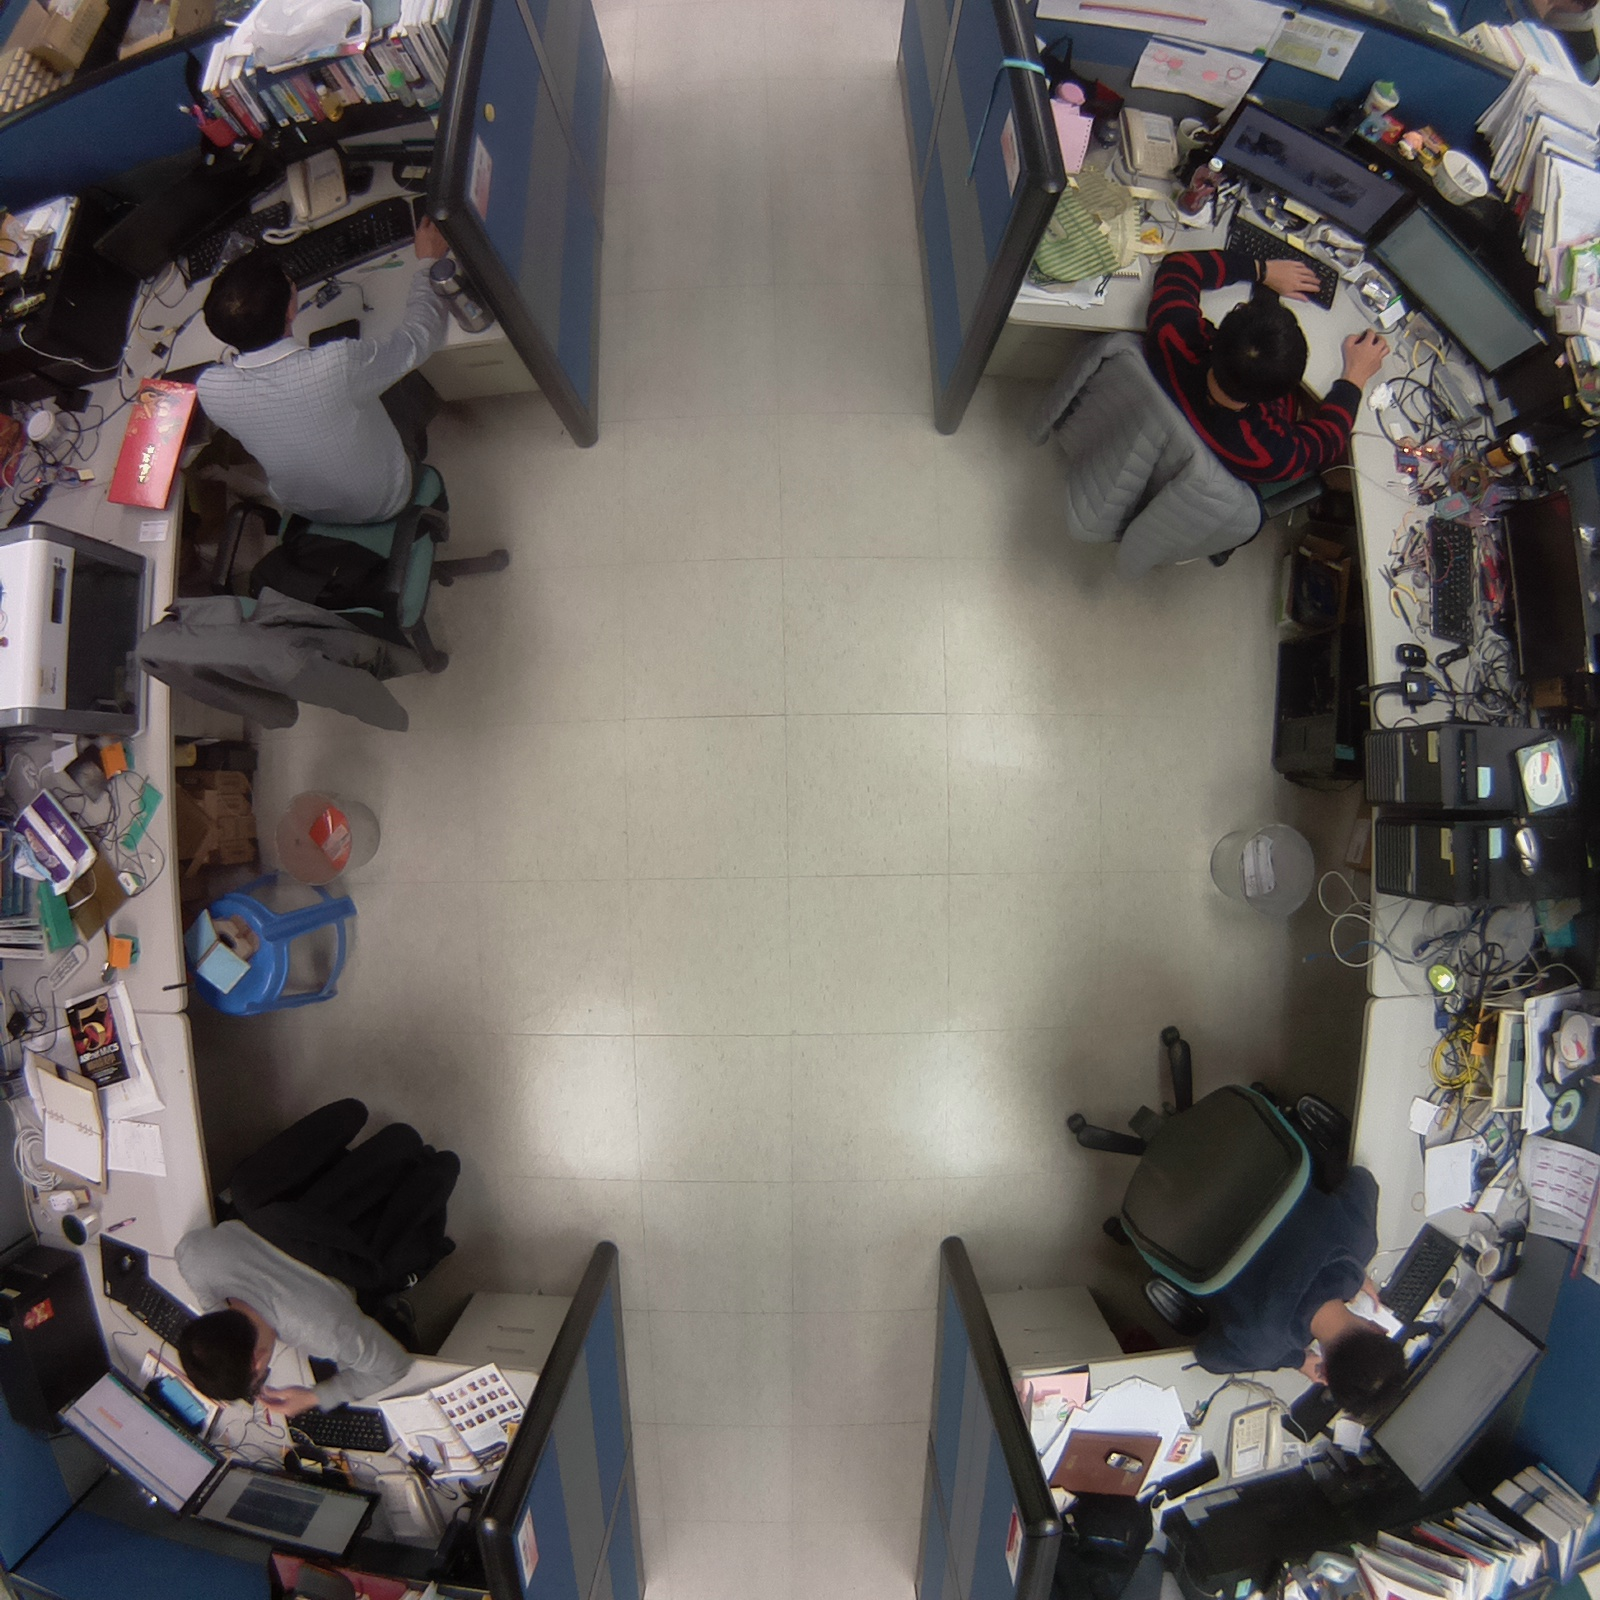head: (1193, 291, 1312, 417), (1302, 1308, 1417, 1425), (172, 1297, 278, 1412), (197, 251, 300, 351)
sitting: (127, 257, 529, 750), (1058, 1006, 1420, 1432), (1004, 237, 1390, 596), (152, 1081, 470, 1427)
